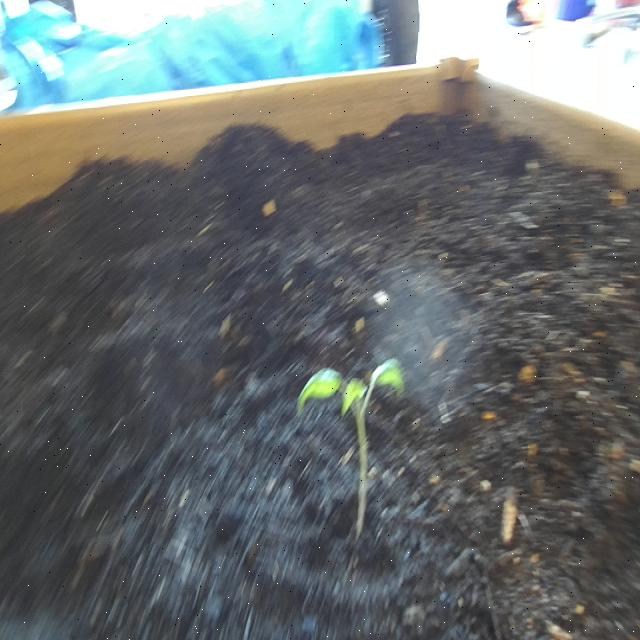Healthy: (286, 341, 416, 555)
